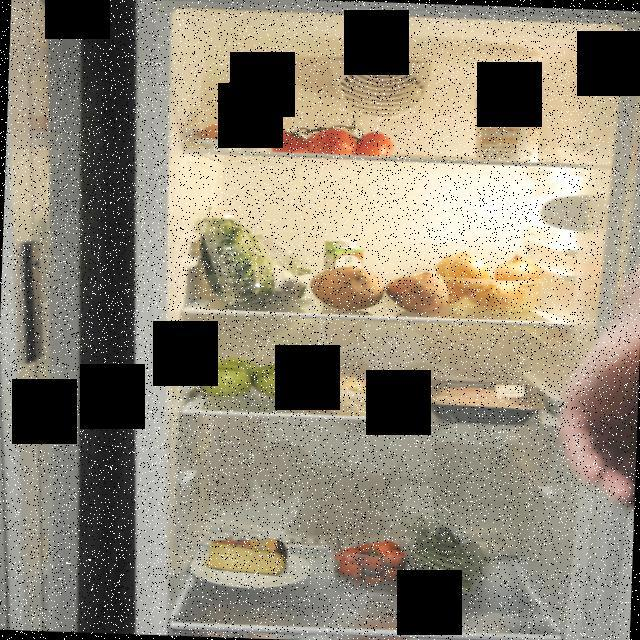Carne pollo: (418, 377, 545, 427)
Cebolla: (426, 248, 547, 318)
Huevos: (196, 120, 270, 152)
Manzana: (195, 354, 310, 402)
Queso: (204, 534, 290, 578)
Tomate: (258, 112, 398, 158)
